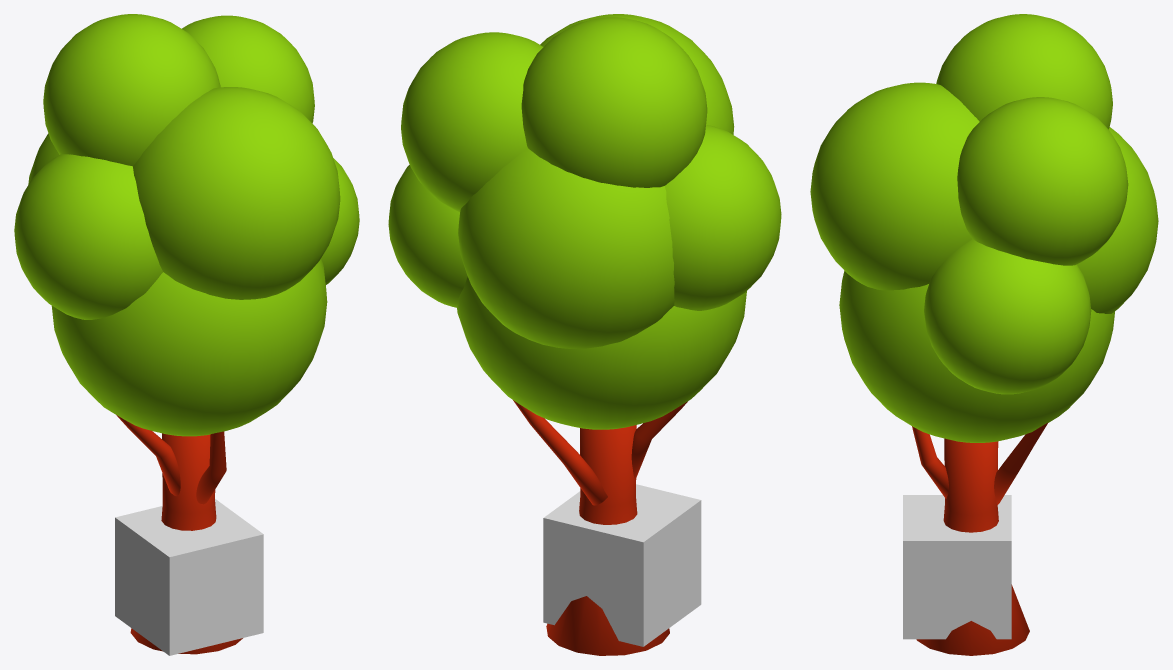
File: trees.fbx
3 renders of one model, left to right at view 1: azimuth 30°, elevation 25°; view 2: azimuth 150°, elevation 25°; view 3: azimuth 270°, elevation 25°, orthographic. The views are drawn at different scales.
Visible parts, largest first — view 1: Sphere.003, Sphere, Sphere.006, Sphere.004, Cube, Sphere.005, Cylinder, Sphere.001, Cylinder.002, Cylinder.003, Sphere.002; view 2: Sphere.002, Sphere.006, Sphere, Cube, Sphere.005, Sphere.004, Cylinder, Sphere.001, Sphere.003, Cylinder.001, Cylinder.002; view 3: Sphere.003, Sphere.005, Sphere, Sphere.001, Cube, Sphere.006, Cylinder, Sphere.002, Cylinder.001, Cylinder.003.
Boxes of the visible parts, x1,y1,x2,y2 form: Sphere.003: [133, 87, 340, 299]; Sphere: [51, 259, 327, 436]; Sphere.006: [43, 14, 220, 166]; Sphere.004: [14, 154, 162, 319]; Cube: [115, 499, 263, 655]; Sphere.005: [182, 15, 314, 123]; Cylinder: [130, 433, 242, 654]; Sphere.001: [321, 158, 359, 284]; Cylinder.002: [116, 415, 180, 496]; Cylinder.003: [196, 431, 226, 504]; Sphere.002: [28, 133, 59, 184]; Sphere.002: [458, 147, 674, 348]; Sphere.006: [521, 17, 707, 187]; Sphere: [457, 277, 746, 429]; Cube: [543, 484, 701, 646]; Sphere.005: [401, 32, 543, 211]; Sphere.004: [665, 124, 781, 310]; Cylinder: [546, 425, 669, 655]; Sphere.001: [388, 165, 467, 307]; Sphere.003: [540, 14, 734, 134]; Cylinder.001: [513, 400, 607, 505]; Cylinder.002: [631, 401, 687, 478]; Sphere.003: [810, 82, 979, 290]; Sphere.005: [957, 97, 1128, 265]; Sphere: [839, 271, 1114, 442]; Sphere.001: [924, 239, 1091, 394]; Cube: [903, 495, 1011, 639]; Sphere.006: [936, 14, 1112, 129]; Cylinder: [916, 438, 1029, 655]; Sphere.002: [1077, 127, 1158, 313]; Cylinder.001: [994, 422, 1048, 504]; Cylinder.003: [912, 426, 948, 498].
Bounding box in the file's own units: 425 × 722 × 383.
